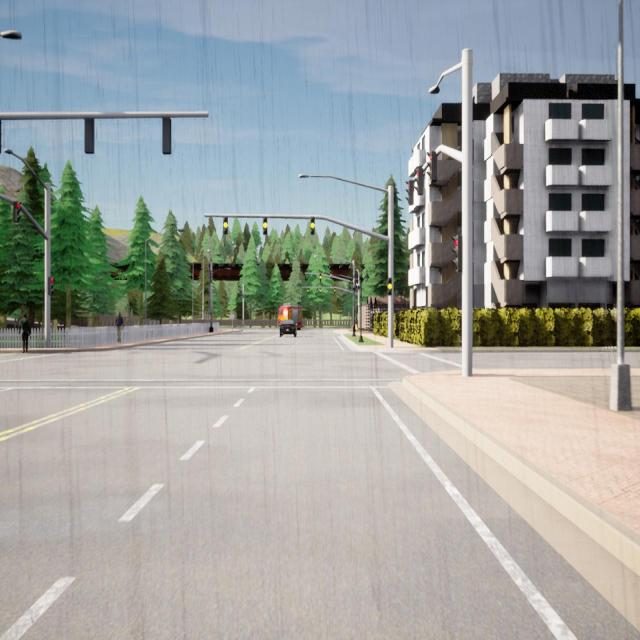Pedestrian: (19, 312, 31, 352), (114, 312, 125, 344)
Traffic_Signs: (230, 314, 234, 320)
Vehicle: (276, 302, 303, 330), (279, 320, 297, 337)
traffic_light: (451, 235, 462, 272), (162, 117, 172, 154), (84, 118, 94, 153), (427, 151, 437, 183), (405, 180, 414, 205), (415, 167, 423, 195), (14, 202, 22, 222), (48, 277, 55, 296), (223, 217, 228, 234), (263, 217, 267, 235), (310, 217, 314, 234), (388, 278, 392, 294), (319, 274, 322, 280), (334, 288, 336, 294), (307, 288, 309, 293), (320, 288, 321, 293)
